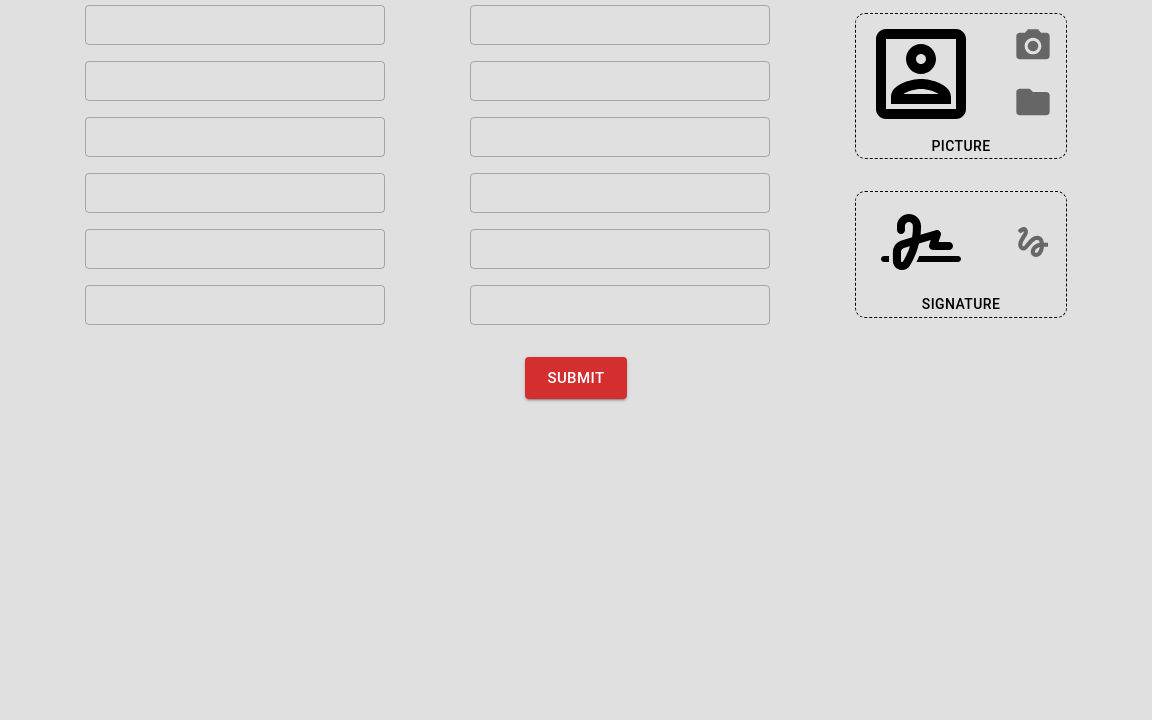
Confirmation page › should open webcam modal on clicking camera icon
Step 1. Click the button with test id "confirmation-page-capture-button" → (1033, 46), box x1=1005 y1=18 x2=1061 y2=74
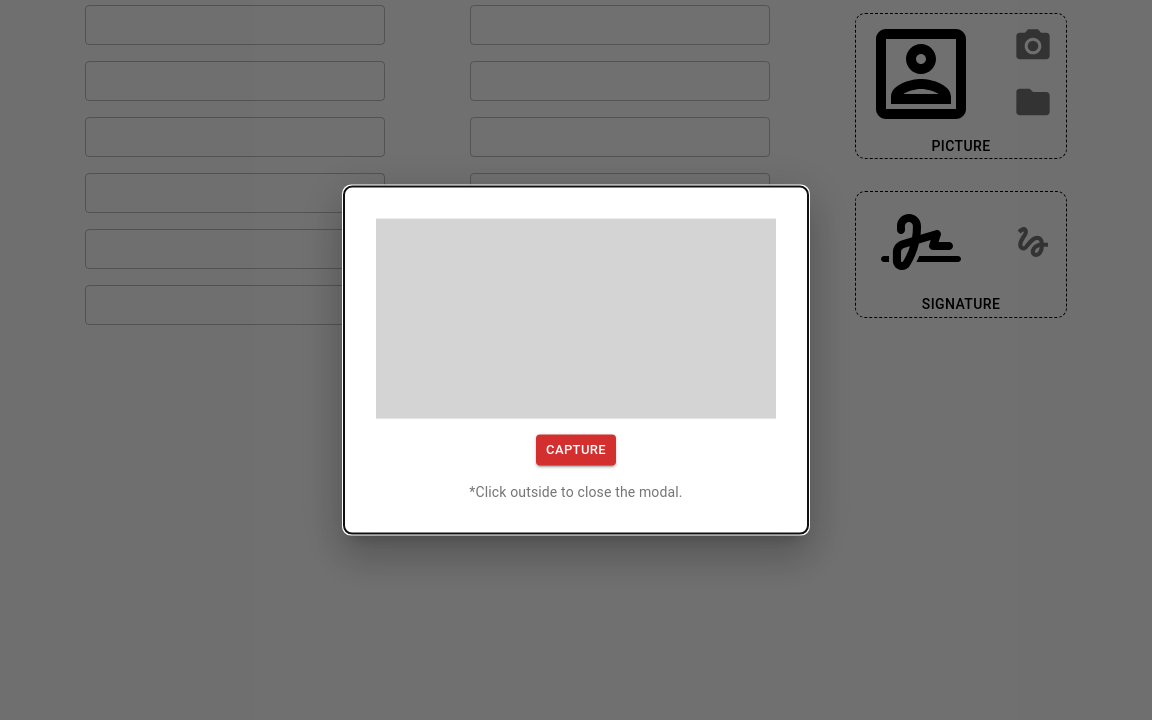
Check: the button with test id "webcam-capture-button" is shown, box x1=536 y1=435 x2=616 y2=465
